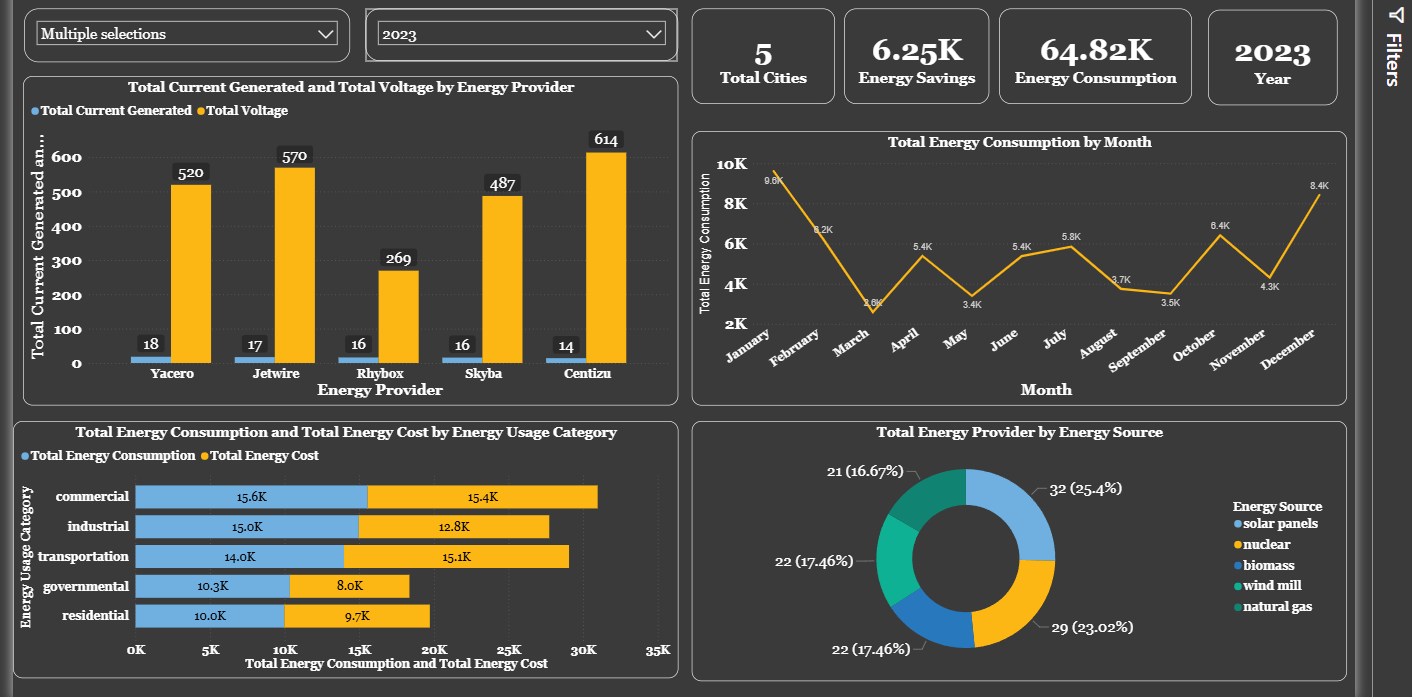

This screenshot's page, from the dashboard's own definition file:
{"tool":"powerbi","page":{"name":"Dashboard","canvas":[1800,1000],"ordinal":0},"visuals":[{"type":"clusteredColumnChart","fields":{"Category":["energydb energy.energy_provider"],"Y":["Sum(energydb energy.current)","Sum(energydb energy.voltage)"]},"box":[13.2,161.1,878.6,441.5],"z":0},{"type":"slicer","fields":{"Values":["energydb energy.city"]},"box":[15,70,436.7,71.7],"z":1000},{"type":"lineChart","fields":{"Category":["energydb energy.Date.Variation.Date Hierarchy.Month"],"Y":["Sum(energydb energy.energy_consumption)"]},"box":[910,235,878.3,368.3],"z":2000},{"type":"slicer","fields":{"Values":["energydb energy.Date.Variation.Date Hierarchy.Year"]},"box":[472.4,70.6,419.4,70.6],"z":3000},{"type":"barChart","fields":{"Category":["energydb energy.energy_usage_category"],"Y":["Sum(energydb energy.energy_consumption)","Sum(energydb energy.energy_cost)"]},"box":[0,623.3,891.7,345],"z":4000},{"type":"donutChart","fields":{"Category":["energydb energy.energy_source"],"Y":["CountNonNull(energydb energy.energy_provider)"]},"box":[909.5,622.5,878.6,348.8],"z":5000},{"type":"card","fields":{"Values":["Count(energydb energy.city)"]},"box":[909.5,70.6,192.1,128],"z":6000},{"type":"card","fields":{"Values":["Sum(energydb energy.energy_savings)"]},"box":[1114.8,70.6,194.3,128],"z":7000},{"type":"card","fields":{"Values":["Sum(energydb energy.energy_consumption)"]},"box":[1322.3,70.6,258.3,128],"z":8000},{"type":"card","fields":{"Values":["Max(energydb energy.Date.Variation.Date Hierarchy.Year)"]},"box":[1601.7,71.7,173.3,128.3],"z":9000},{"type":"image","box":[15,11.7,140,51.7],"z":10000},{"type":"textbox","box":[536.7,11.7,631.7,51.7],"z":11000}]}

Visuals, with their boxes on the page's 1800x1000 design canvas (x1, y1, x2, y2). These are canvas units, not pixel positions in the 1412x697 screenshot, which may show the page scaled, cropped or inside an application window:
clusteredColumnChart - energydb energy.energy_provider x Sum(energydb energy.current): [13,161,892,603]
slicer - energydb energy.city: [15,70,452,142]
lineChart - energydb energy.Date.Variation.Date Hierarchy.Month x Sum(energydb energy.energy_consumption): [910,235,1788,603]
slicer - energydb energy.Date.Variation.Date Hierarchy.Year: [472,71,892,141]
barChart - energydb energy.energy_usage_category x Sum(energydb energy.energy_consumption): [0,623,892,968]
donutChart - energydb energy.energy_source x CountNonNull(energydb energy.energy_provider): [910,622,1788,971]
card - Count(energydb energy.city): [910,71,1102,199]
card - Sum(energydb energy.energy_savings): [1115,71,1309,199]
card - Sum(energydb energy.energy_consumption): [1322,71,1581,199]
card - Max(energydb energy.Date.Variation.Date Hierarchy.Year): [1602,72,1775,200]
image: [15,12,155,63]
textbox: [537,12,1168,63]
